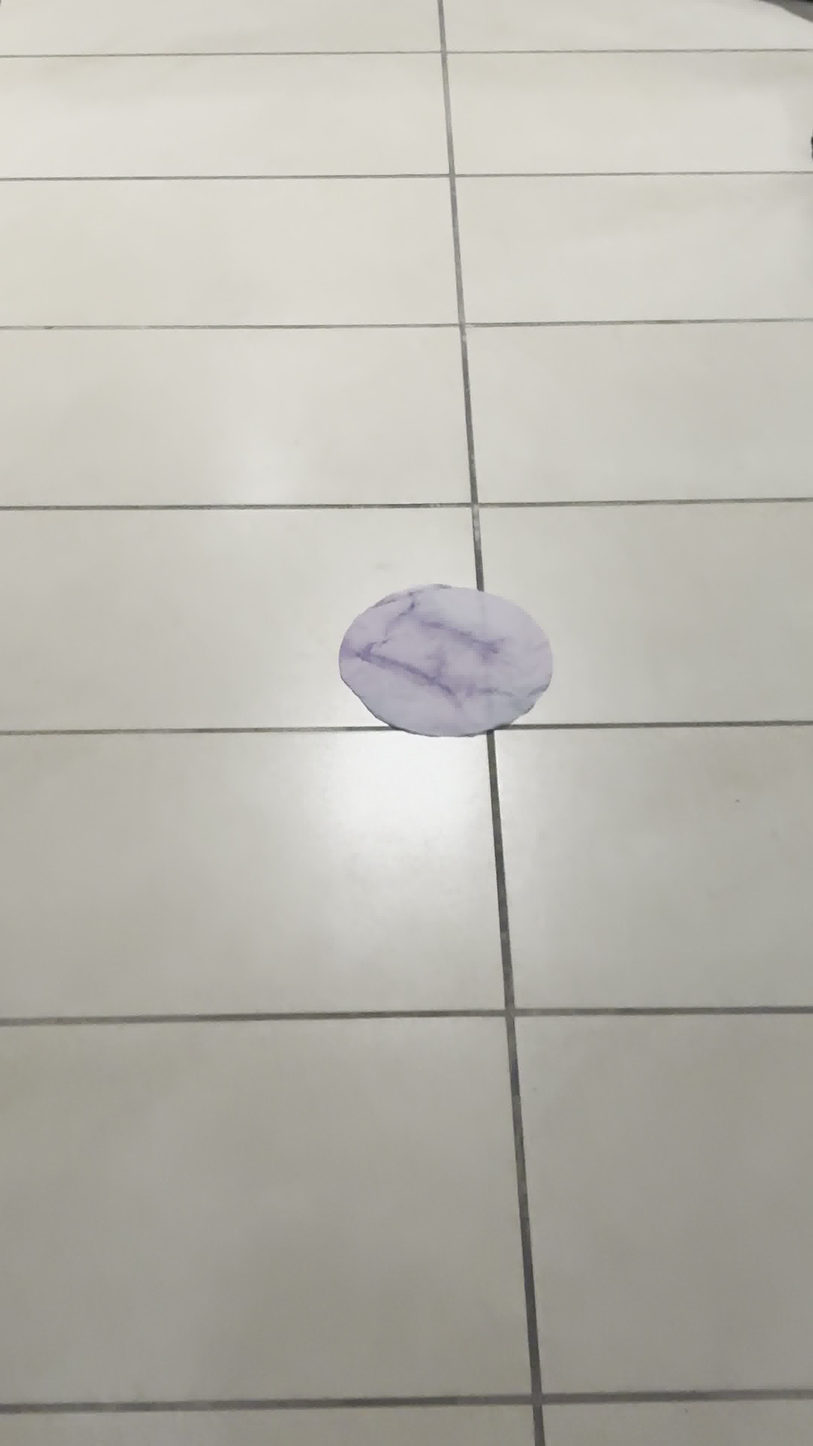Target: (338, 583, 553, 739)
